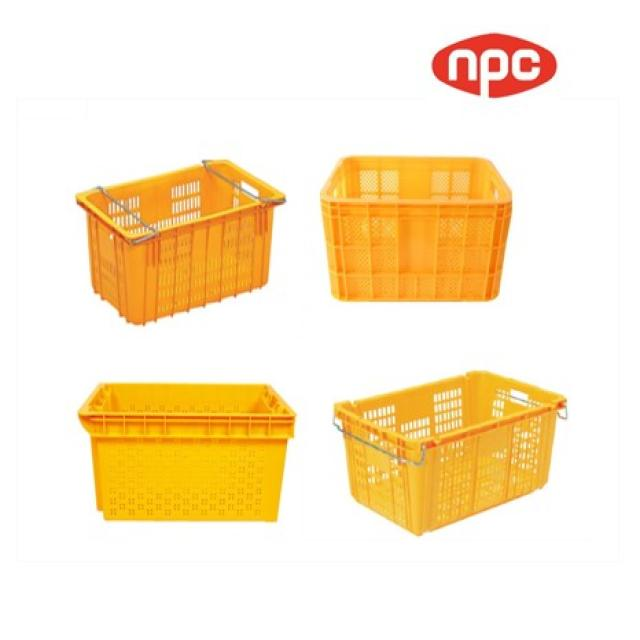basket: (320, 325, 594, 553), (64, 134, 310, 336), (76, 383, 296, 523), (317, 153, 516, 307)
